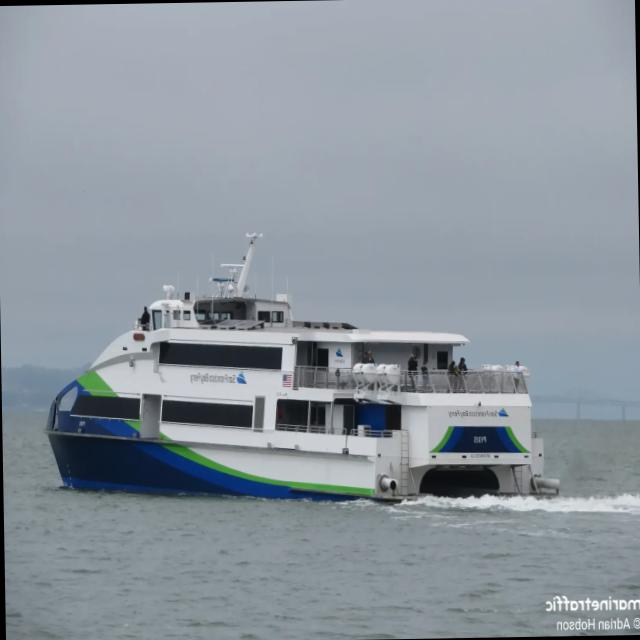Passenger: (45, 233, 560, 501)
